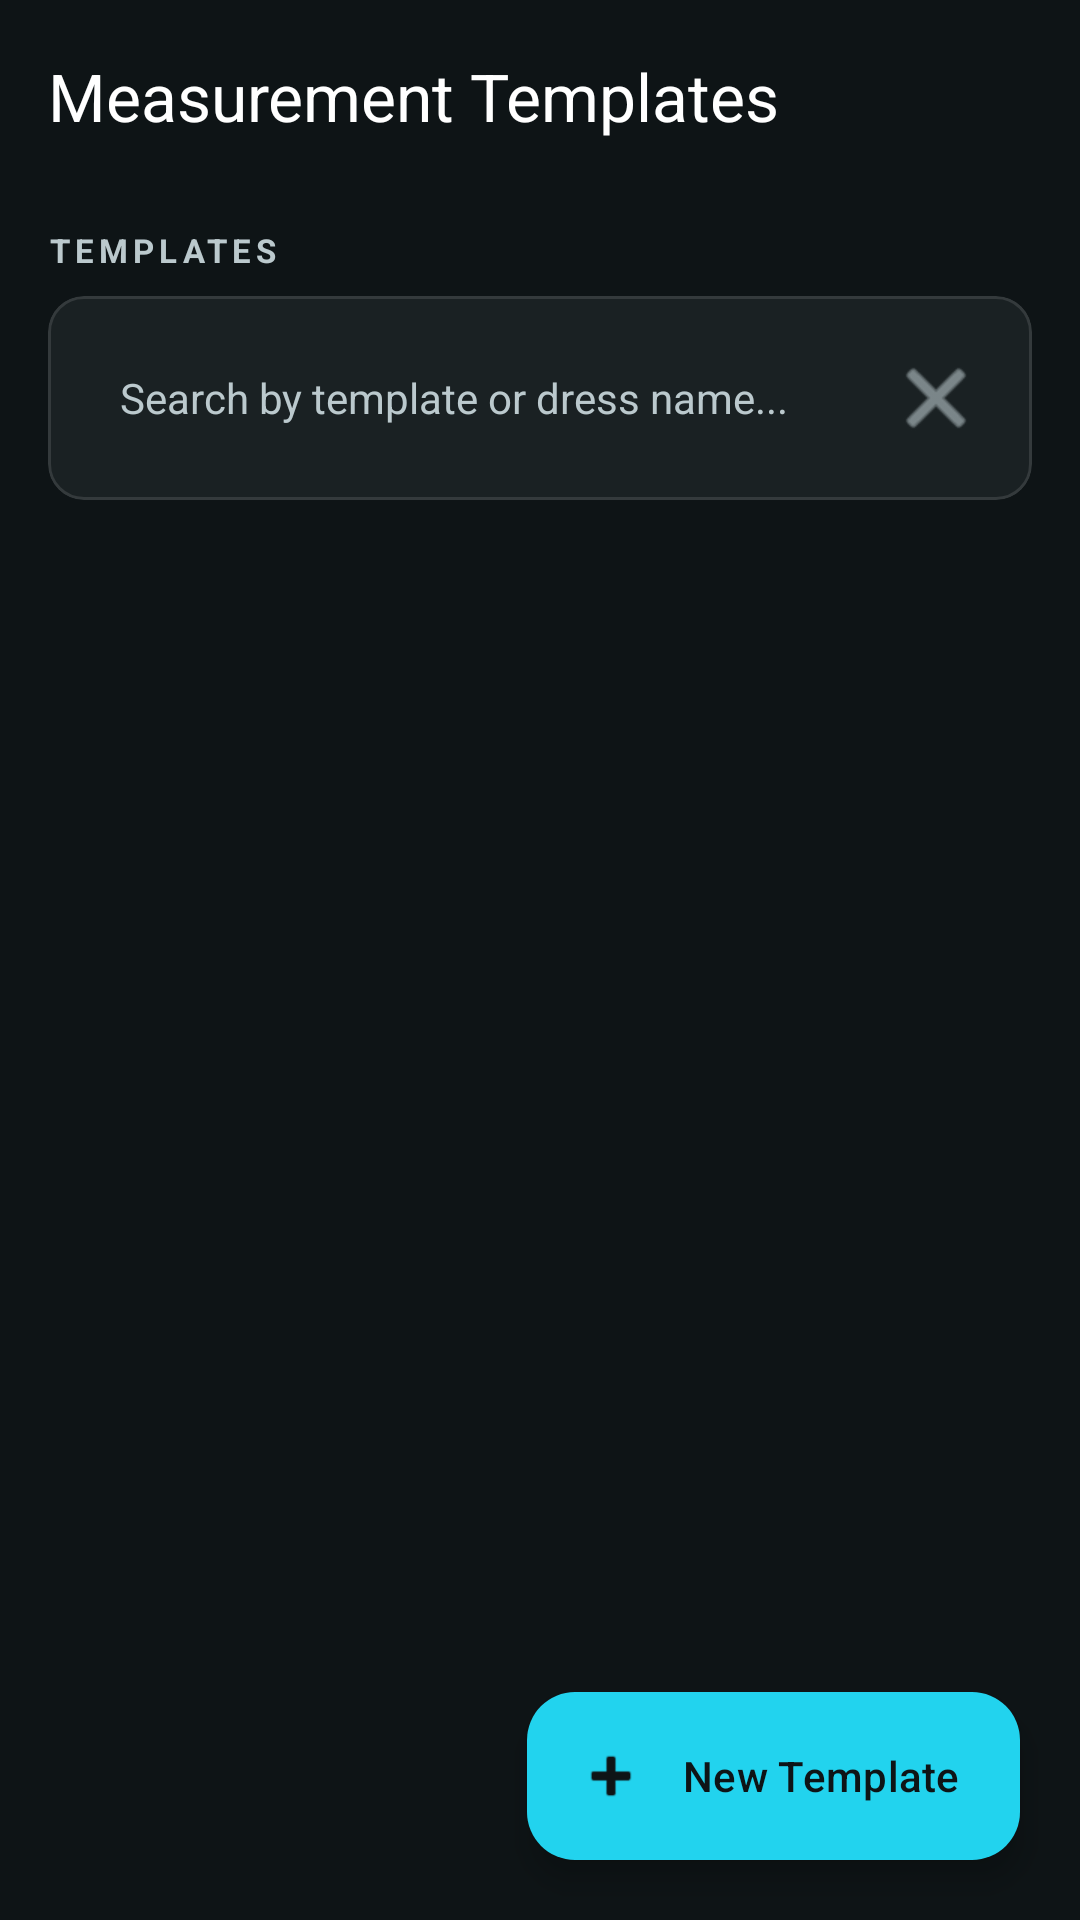

Where to tap for icons on this 1080 × 1920 app screen, as [x,y]:
Clear search: [936,398]
